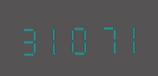one: (42, 20, 65, 56), (114, 19, 137, 54)
seven: (90, 19, 113, 55)
three: (18, 21, 41, 56)
zero: (66, 20, 89, 55)
